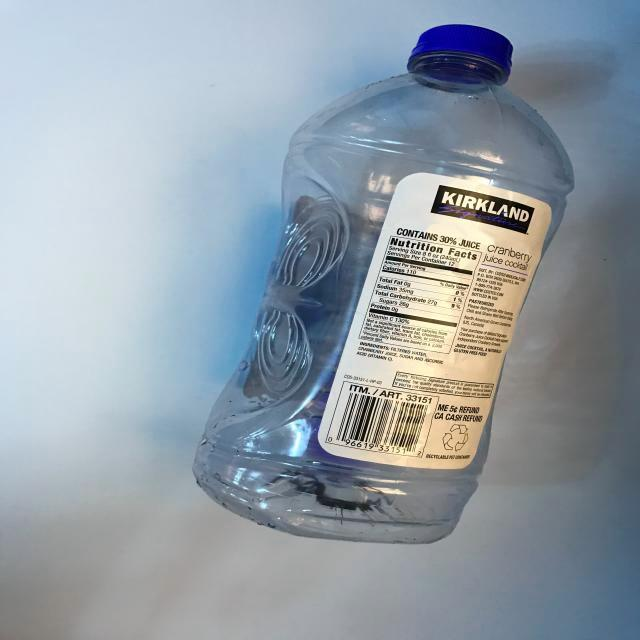plastic: (151, 0, 580, 567)
